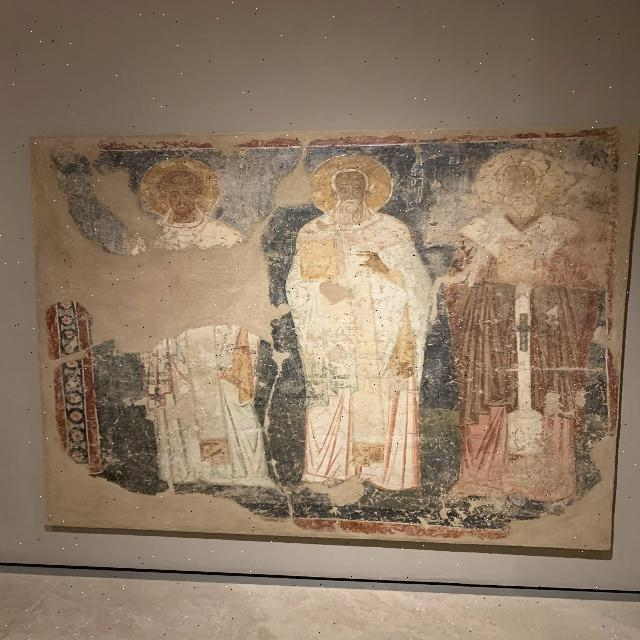book: (301, 233, 344, 281), (464, 217, 513, 257)
church fathers: (64, 144, 606, 519)
